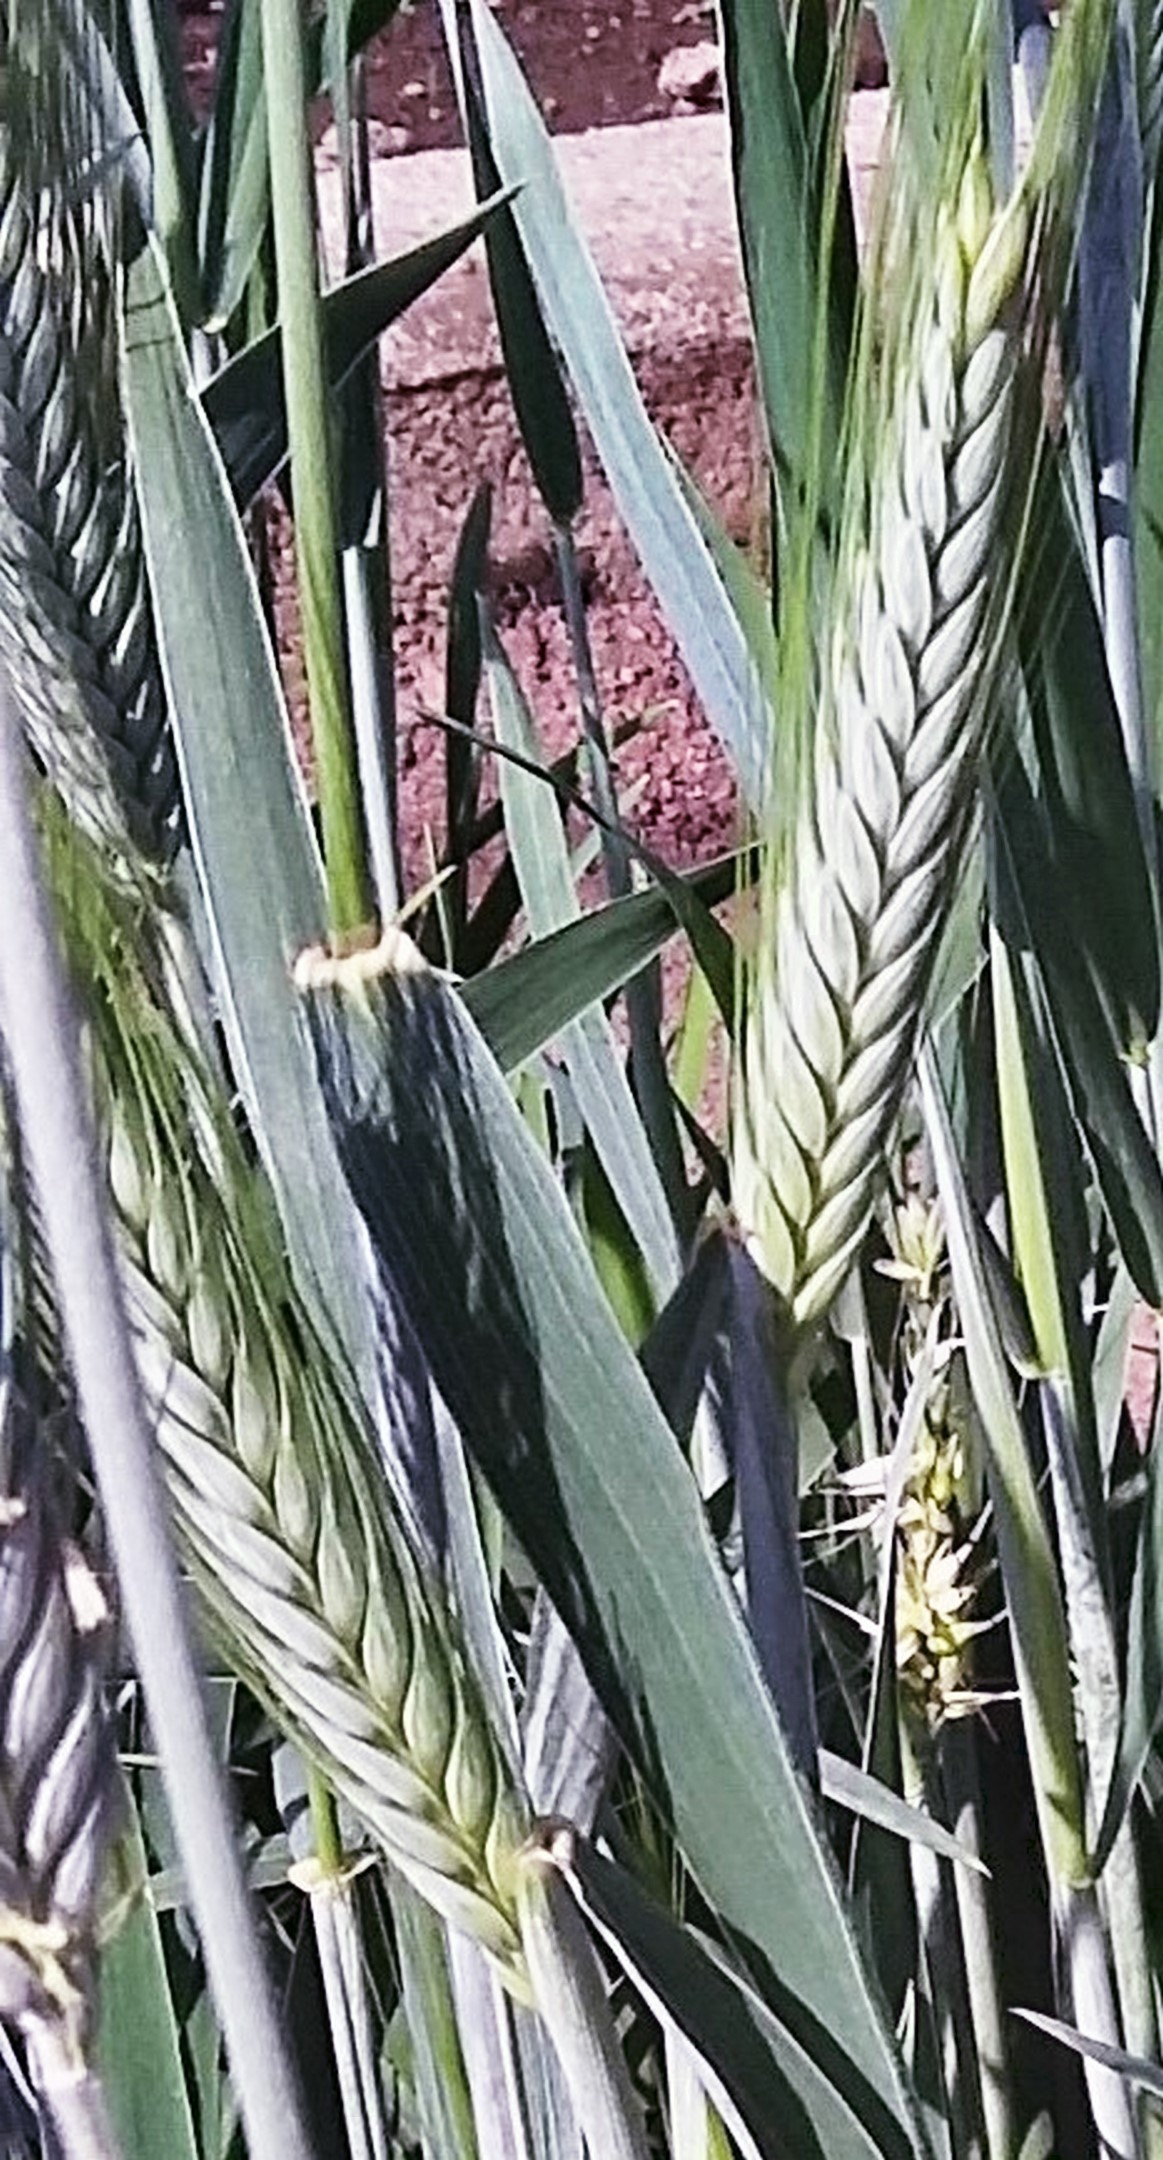Healthy Wheat: (722, 182, 1080, 1354)
